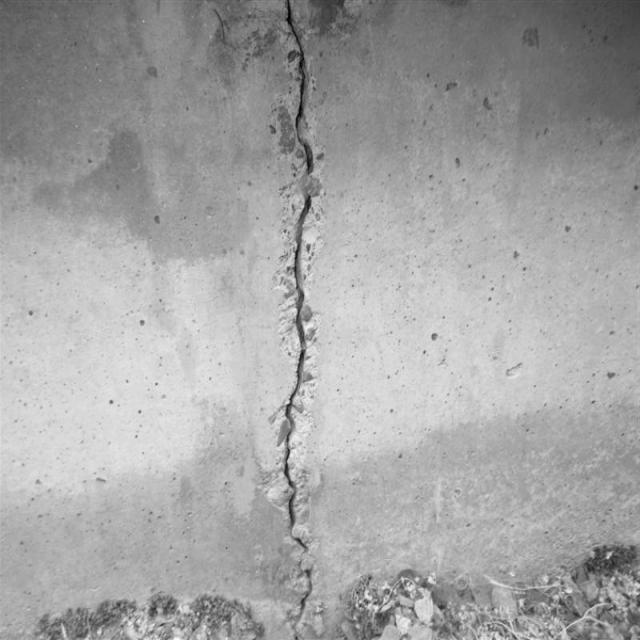Wall_Cracks: (234, 0, 353, 640)
